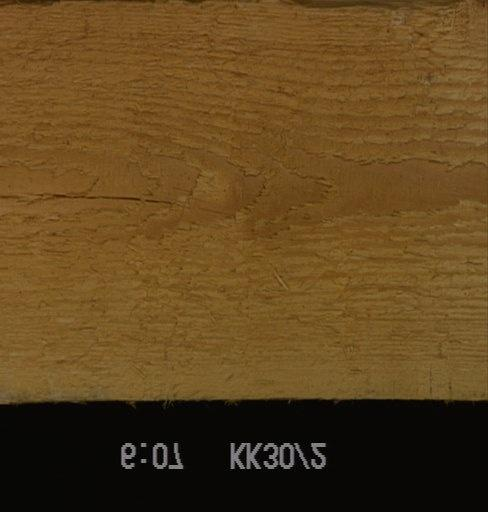split: (0, 195, 174, 207)
wave: (284, 0, 459, 9), (0, 0, 63, 7)
